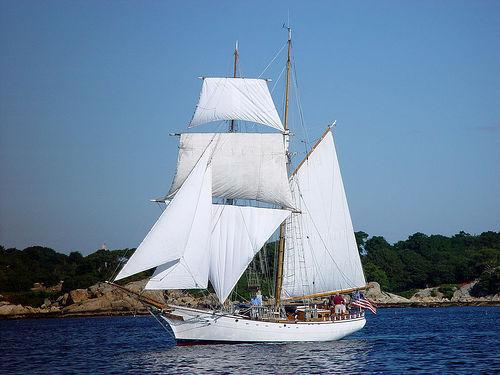Ship: (109, 31, 373, 345)
